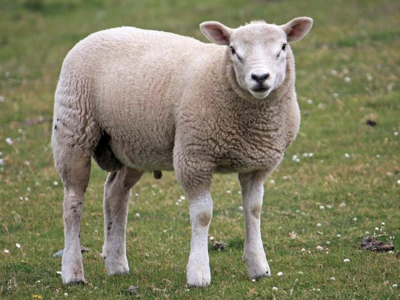koyun: (49, 16, 314, 288)
